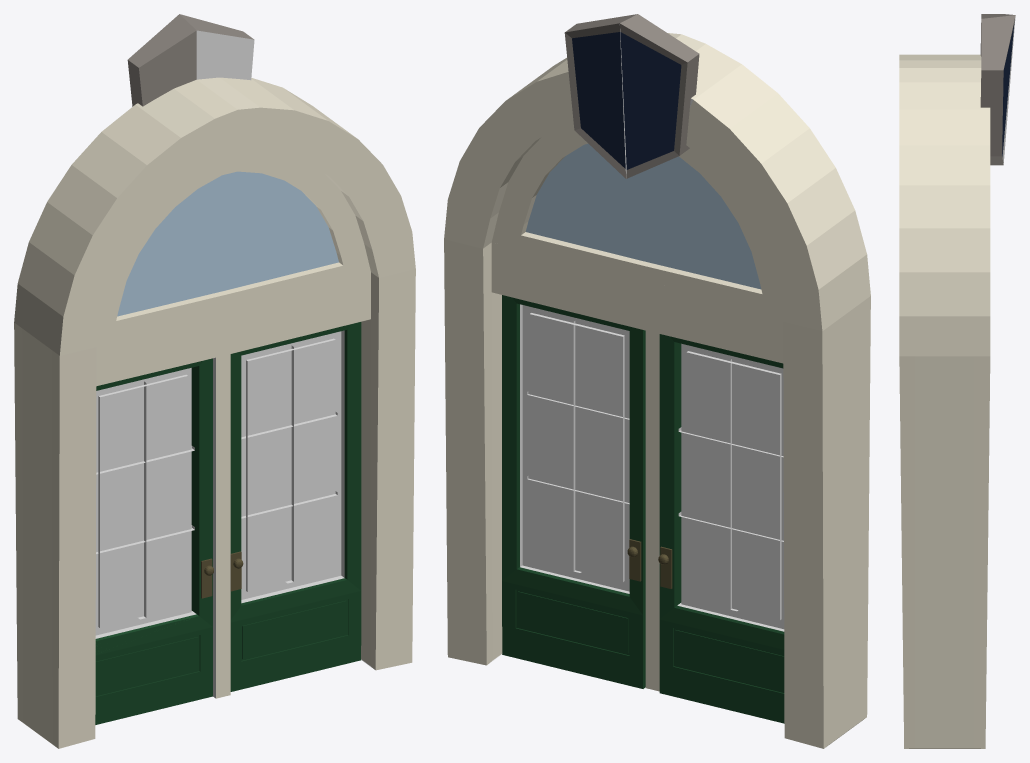
File: Exterdoor2.glb
The picture shows the model from 3 angles, left to right: view 1: azimuth 30°, elevation 25°; view 2: azimuth 150°, elevation 25°; view 3: azimuth 270°, elevation 25°; orthographic projection. The views are drawn at different scales.
Visible parts, largest first — view 1: Z; view 2: Z; view 3: Z.
Boxes of the visible parts, box(x1,y1,x2,y2) form: Z: box(14, 14, 415, 748); Z: box(444, 14, 870, 748); Z: box(899, 14, 1015, 748).
Bounding box in the file's own units: 5.36 × 9.37 × 1.52.
